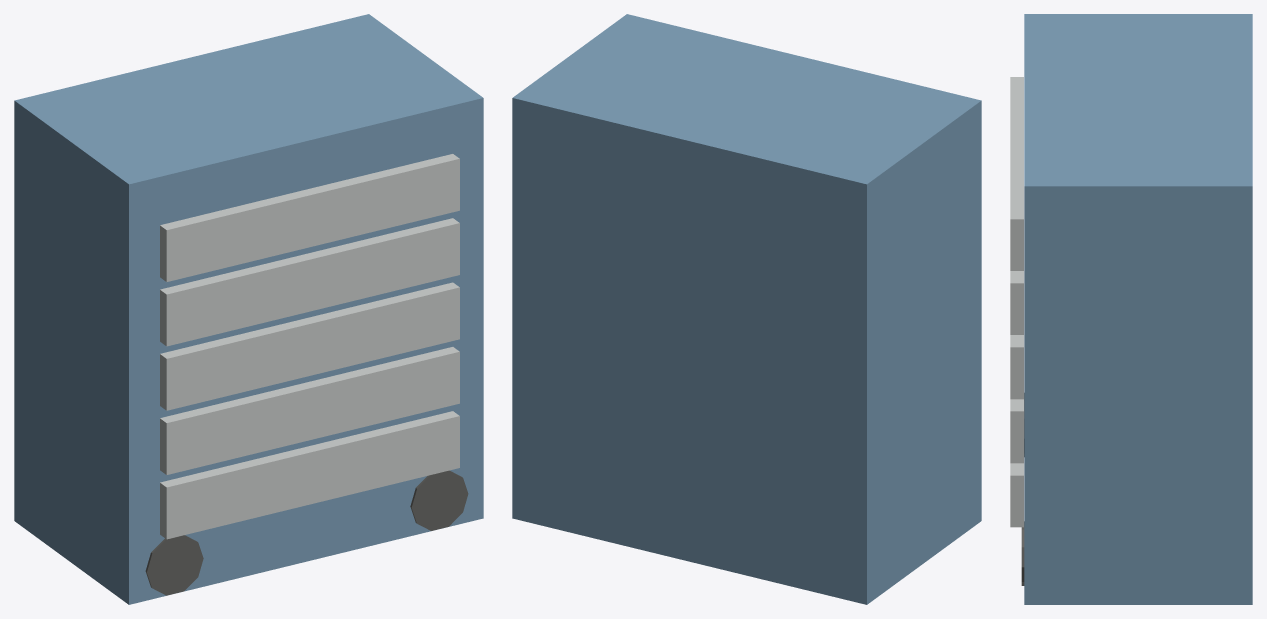
Rendered from tool_chest_01.glb.
3 renders of one model, left to right at view 1: azimuth 30°, elevation 25°; view 2: azimuth 150°, elevation 25°; view 3: azimuth 270°, elevation 25°, orthographic.
Visible parts, largest first — view 1: chest, drawer2, drawer1, drawer3, drawer0, drawer4, wheel0.28, wheel-0.28; view 2: chest; view 3: chest, drawer4, drawer0, drawer1, drawer2, drawer3.
Part boxes in pixels (bbox=[...]): chest: bbox=[14, 14, 483, 604]; drawer2: bbox=[160, 282, 459, 410]; drawer1: bbox=[160, 347, 459, 474]; drawer3: bbox=[160, 218, 459, 346]; drawer0: bbox=[160, 411, 459, 539]; drawer4: bbox=[160, 154, 459, 281]; wheel0.28: bbox=[410, 470, 468, 530]; wheel-0.28: bbox=[145, 535, 203, 595]; chest: bbox=[512, 14, 981, 604]; chest: bbox=[1024, 14, 1252, 604]; drawer4: bbox=[1010, 77, 1023, 270]; drawer0: bbox=[1010, 463, 1023, 527]; drawer1: bbox=[1010, 399, 1023, 463]; drawer2: bbox=[1010, 335, 1023, 399]; drawer3: bbox=[1010, 271, 1023, 334].
Bounding box in the file's own units: 0.75 × 0.85 × 0.4455.
